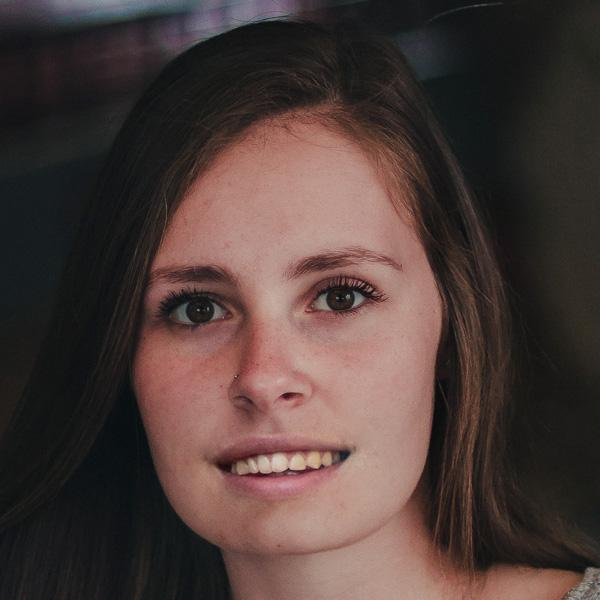Eyes: (292, 269, 394, 331), (149, 281, 250, 341)
